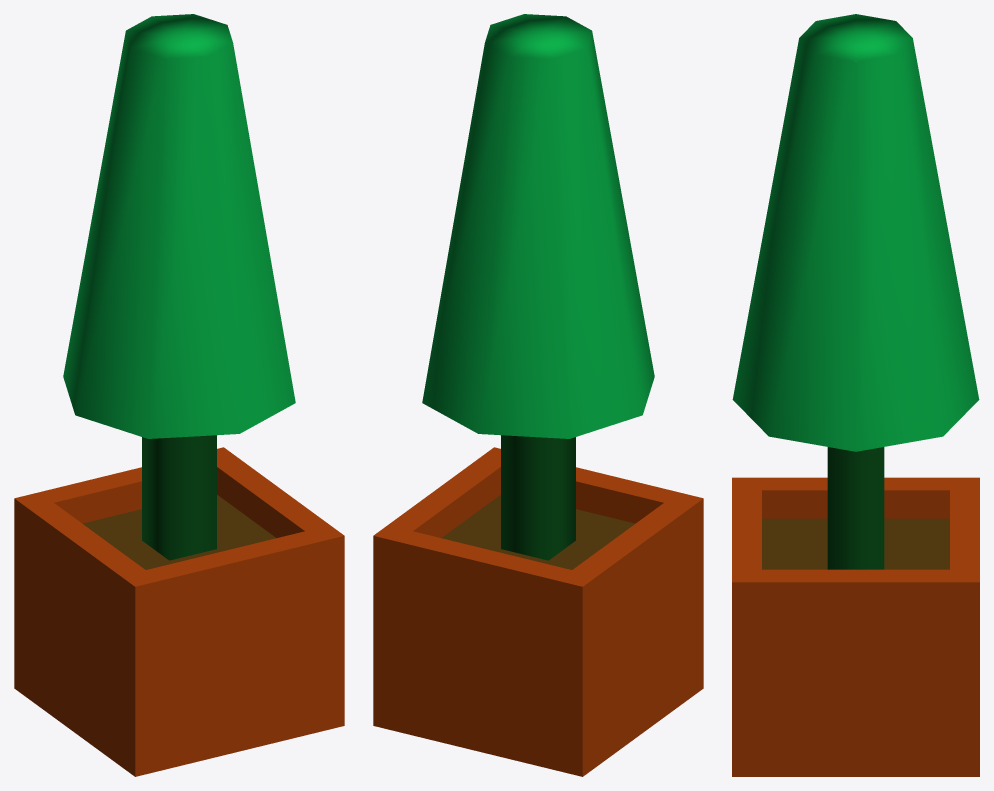
The model's file is Env_PotPlant_Style2.fbx.
3 renders of one model, left to right at view 1: azimuth 30°, elevation 25°; view 2: azimuth 150°, elevation 25°; view 3: azimuth 270°, elevation 25°, orthographic. The views are drawn at different scales.
Visible parts, largest first — view 1: Env_PotPlant_Style2; view 2: Env_PotPlant_Style2; view 3: Env_PotPlant_Style2.
Boxes of the visible parts, x1,y1,x2,y2 form: Env_PotPlant_Style2: [14, 14, 344, 776]; Env_PotPlant_Style2: [373, 14, 703, 776]; Env_PotPlant_Style2: [732, 14, 979, 776].
Bounding box in the file's own units: 45.05 × 138 × 45.05.
